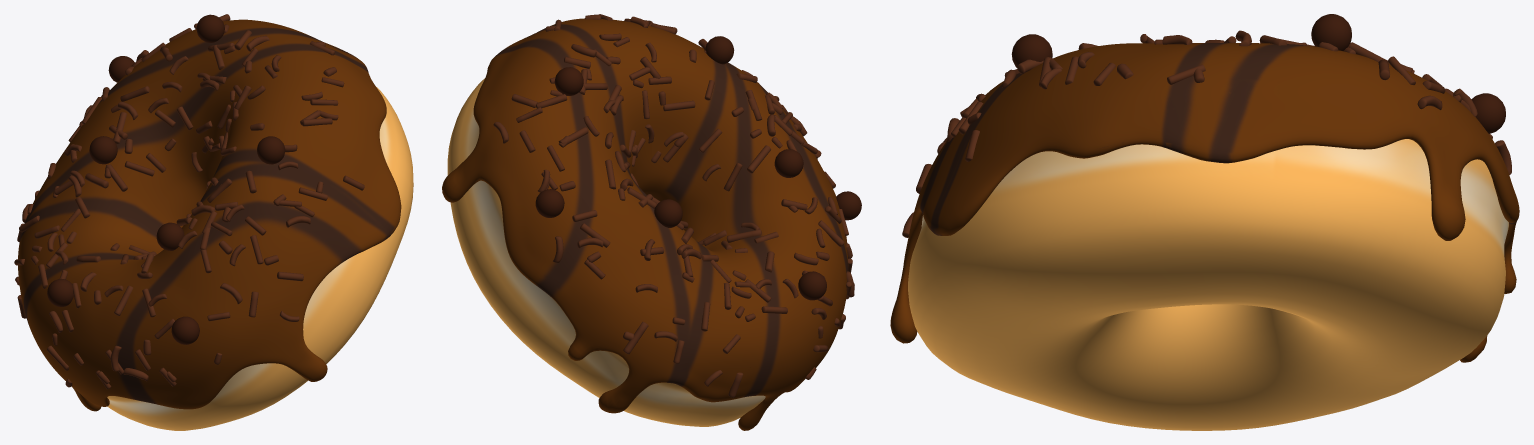
3 renders of one model, left to right at view 1: azimuth 30°, elevation 25°; view 2: azimuth 150°, elevation 25°; view 3: azimuth 270°, elevation 25°, orthographic. The views are drawn at different scales.
Parts seen in each view (by area): view 1: icing.003, Torus.002, Sphere.057, Sphere.054, Sphere.053, Sphere.052, BASLL.001, Sphere.055, Sphere.056; view 2: icing.003, Torus.002, Sphere.055, Sphere.056, BASLL.001, Sphere.052, Sphere.054, Sphere.053, Sphere.057; view 3: Torus.002, icing.003, Sphere.052, Sphere.056, Sphere.053.
Part boxes in pixels (box(x1,y1,x2,y2)): icing.003: box(18, 19, 401, 411); Torus.002: box(107, 87, 413, 430); Sphere.057: box(171, 316, 199, 344); Sphere.054: box(89, 136, 117, 164); Sphere.053: box(257, 136, 285, 164); Sphere.052: box(196, 14, 224, 42); BASLL.001: box(47, 278, 73, 306); Sphere.055: box(156, 222, 184, 250); Sphere.056: box(108, 56, 134, 82); icing.003: box(442, 18, 848, 430); Torus.002: box(447, 78, 765, 426); Sphere.055: box(774, 149, 803, 177); Sphere.056: box(535, 189, 564, 217); BASLL.001: box(798, 271, 826, 300); Sphere.052: box(554, 67, 583, 95); Sphere.054: box(654, 199, 682, 227); Sphere.053: box(705, 36, 734, 64); Sphere.057: box(836, 191, 861, 220); Torus.002: box(908, 139, 1508, 430); icing.003: box(890, 43, 1519, 362); Sphere.052: box(1311, 14, 1351, 50); Sphere.056: box(1471, 93, 1505, 133); Sphere.053: box(1011, 34, 1052, 68).
Size of the model in its own units: 0.0998 by 0.0972 by 0.1132.
Materials: 4 (2 with a texture image).
